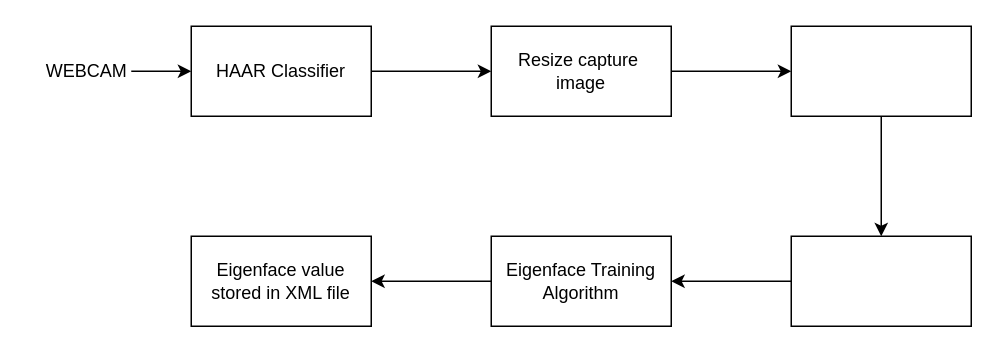
Image size: 998x353. Some labels were removed from this diagram. The centre of each missing label's shape, as x and y in pixels:
Convert to grayscale: (880,70)
Save images in folder: (880,280)
